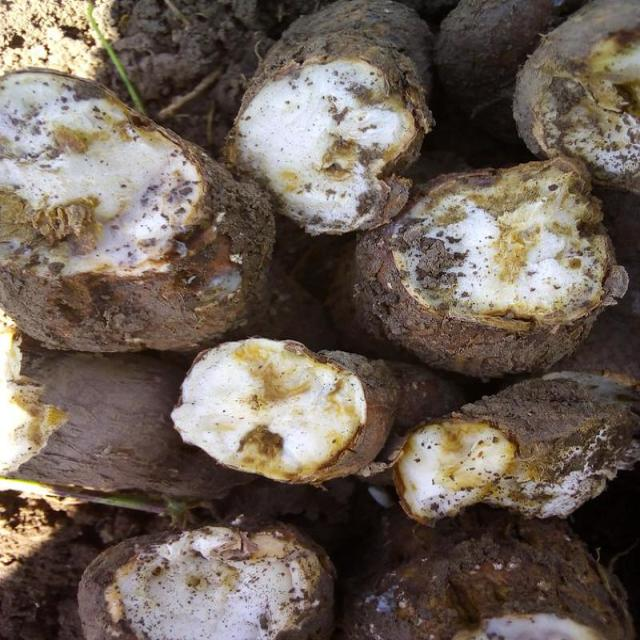cassava leaf: (2, 66, 276, 354), (351, 154, 630, 378), (225, 0, 437, 236), (392, 373, 639, 526), (170, 335, 398, 485), (78, 515, 338, 638), (513, 0, 640, 194)
